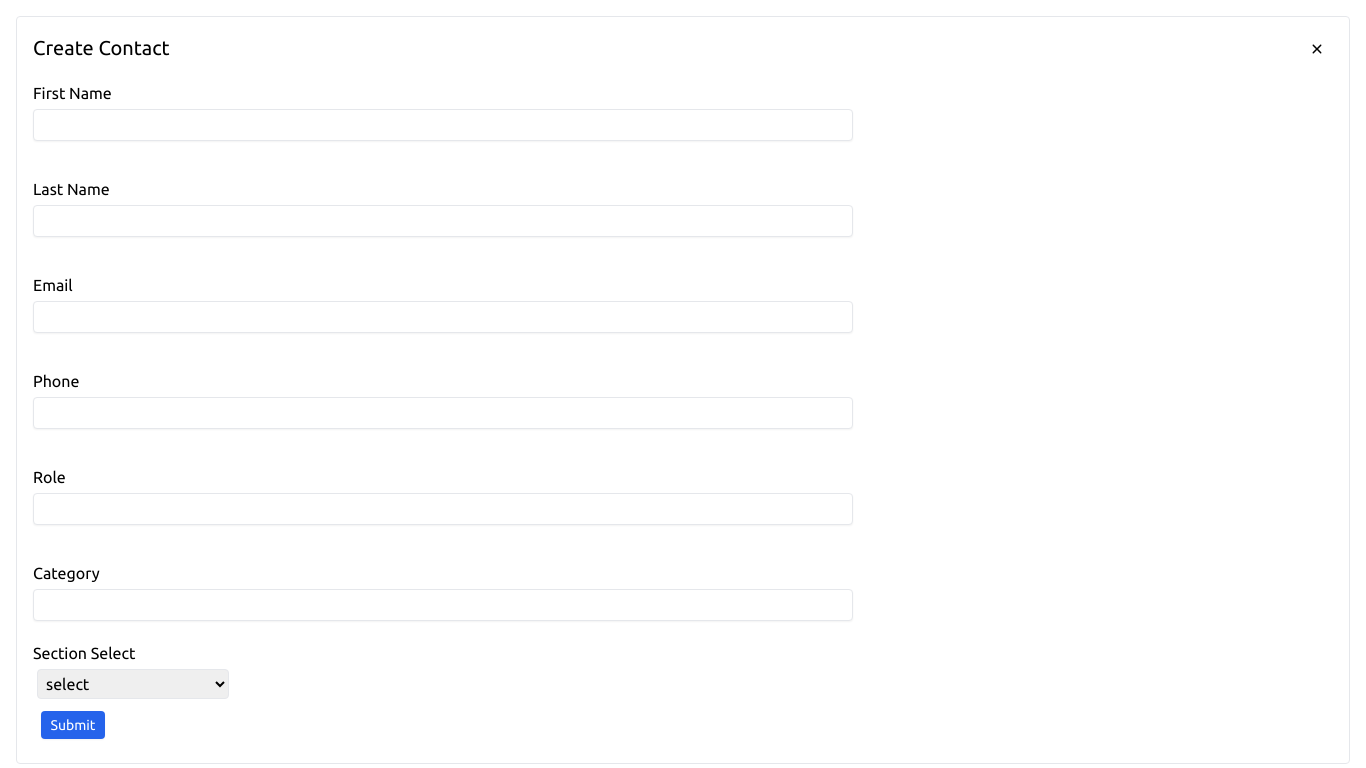
<CreateContactForm /> › all expected errs are shown if submit btn pressed without valid fields
The width and height of the screenshot is (1366, 768).
Click the button "Submit": point(73, 725) x1=41 y1=711 x2=105 y2=739
(page scrolled)
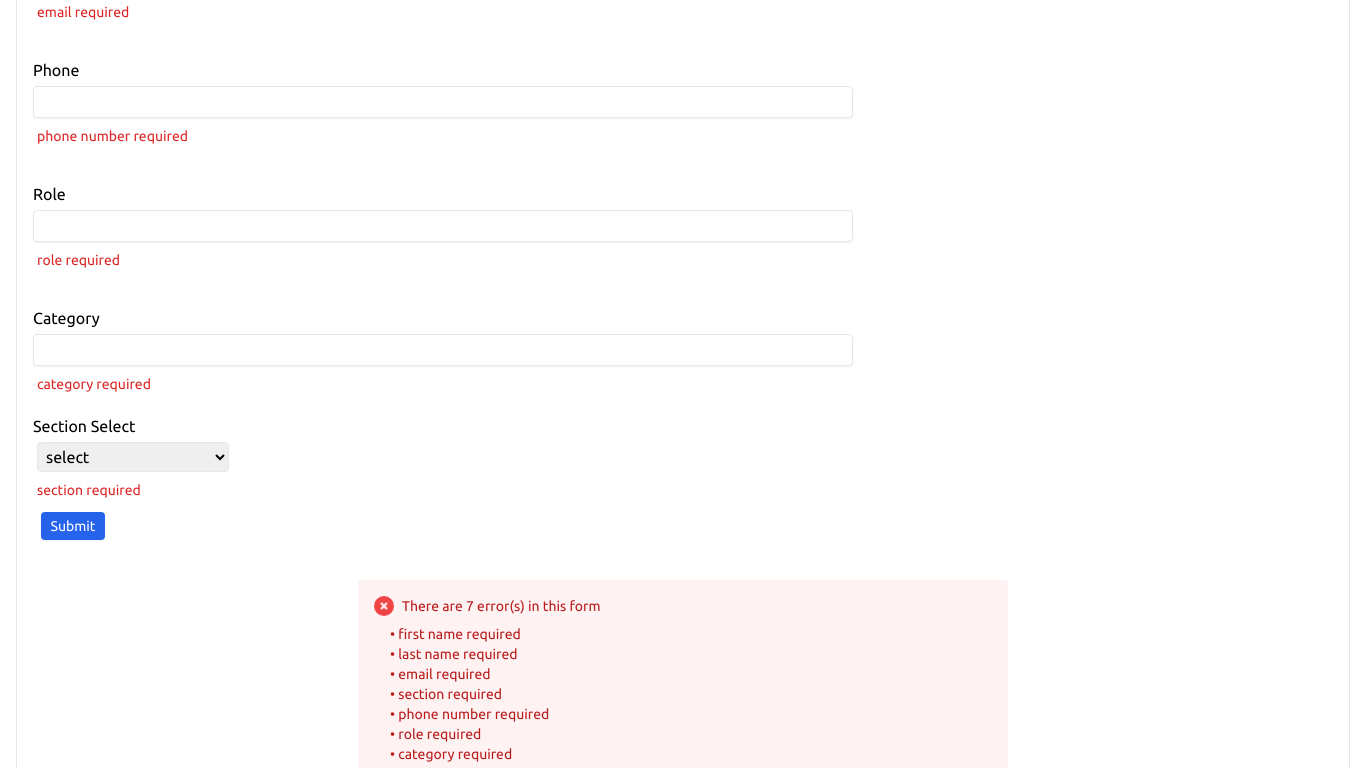
Expected: the text with test id "email-error" reads "email required", x1=37 y1=4 x2=129 y2=20
Expected: the text with test id "phone-error" reads "phone number required", x1=37 y1=128 x2=188 y2=144
Expected: the text with test id "section-error" reads "section required", x1=37 y1=482 x2=141 y2=498
